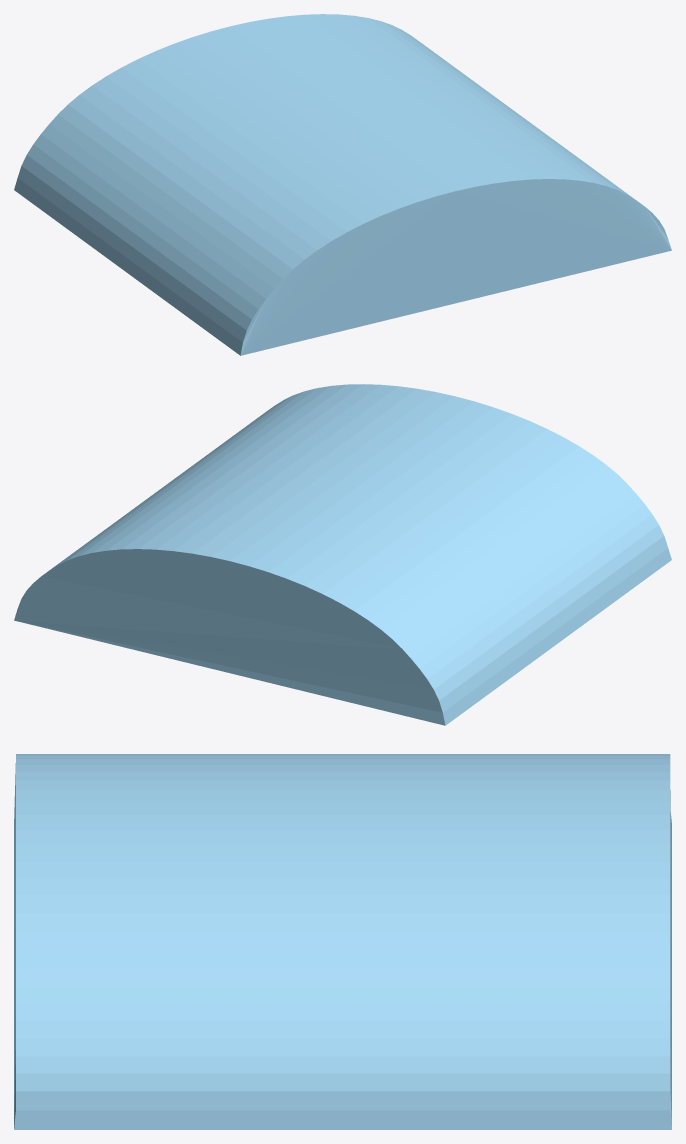
The model's file is Proppeller.fbx.
3 renders of one model, top to bottom at view 1: azimuth 30°, elevation 25°; view 2: azimuth 150°, elevation 25°; view 3: azimuth 270°, elevation 25°, orthographic. The views are drawn at different scales.
Parts seen in each view (by area): view 1: Proppeler; view 2: Proppeler; view 3: Proppeler.
Part boxes in pixels (box(x1,y1,x2,y2)): Proppeler: box(14, 14, 671, 355); Proppeler: box(14, 384, 671, 725); Proppeler: box(14, 754, 671, 1129).
Size of the model in its own units: 2.2 by 0.5433 by 2.
